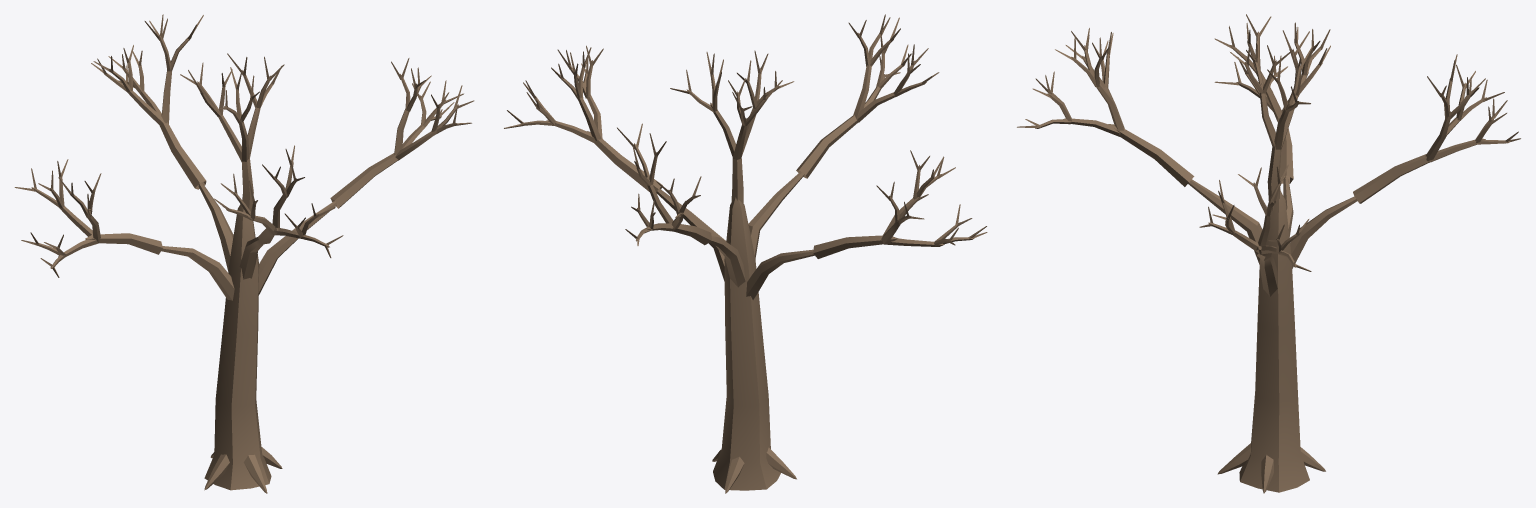
The model's file is tree_bare.glb.
The picture shows the model from 3 angles, left to right: view 1: azimuth 30°, elevation 25°; view 2: azimuth 150°, elevation 25°; view 3: azimuth 270°, elevation 25°; orthographic projection. The views are drawn at different scales.
Parts seen in each view (by area): view 1: Body; view 2: Body; view 3: Body.
Boxes of the visible parts, <box> form: Body: <box>14,14,474,493</box>; Body: <box>504,14,987,493</box>; Body: <box>1017,14,1520,493</box>.
Bounding box in the file's own units: 5.95 × 5.3 × 5.55.
